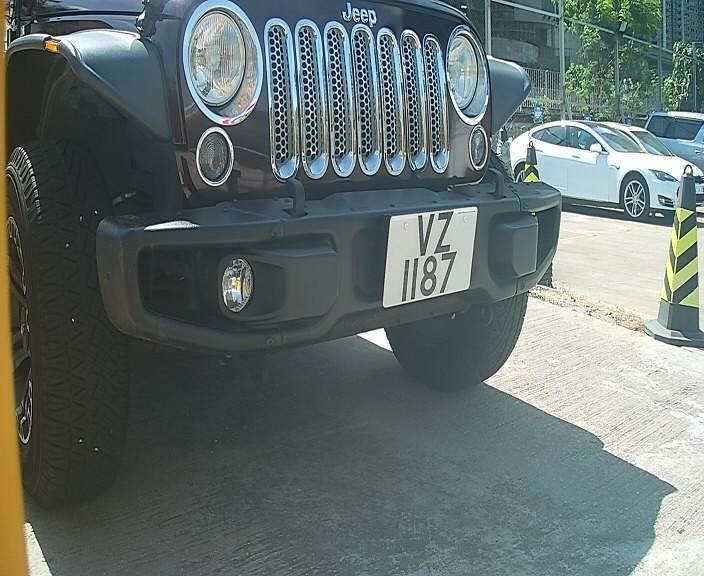privatecar: (19, 8, 551, 417)
